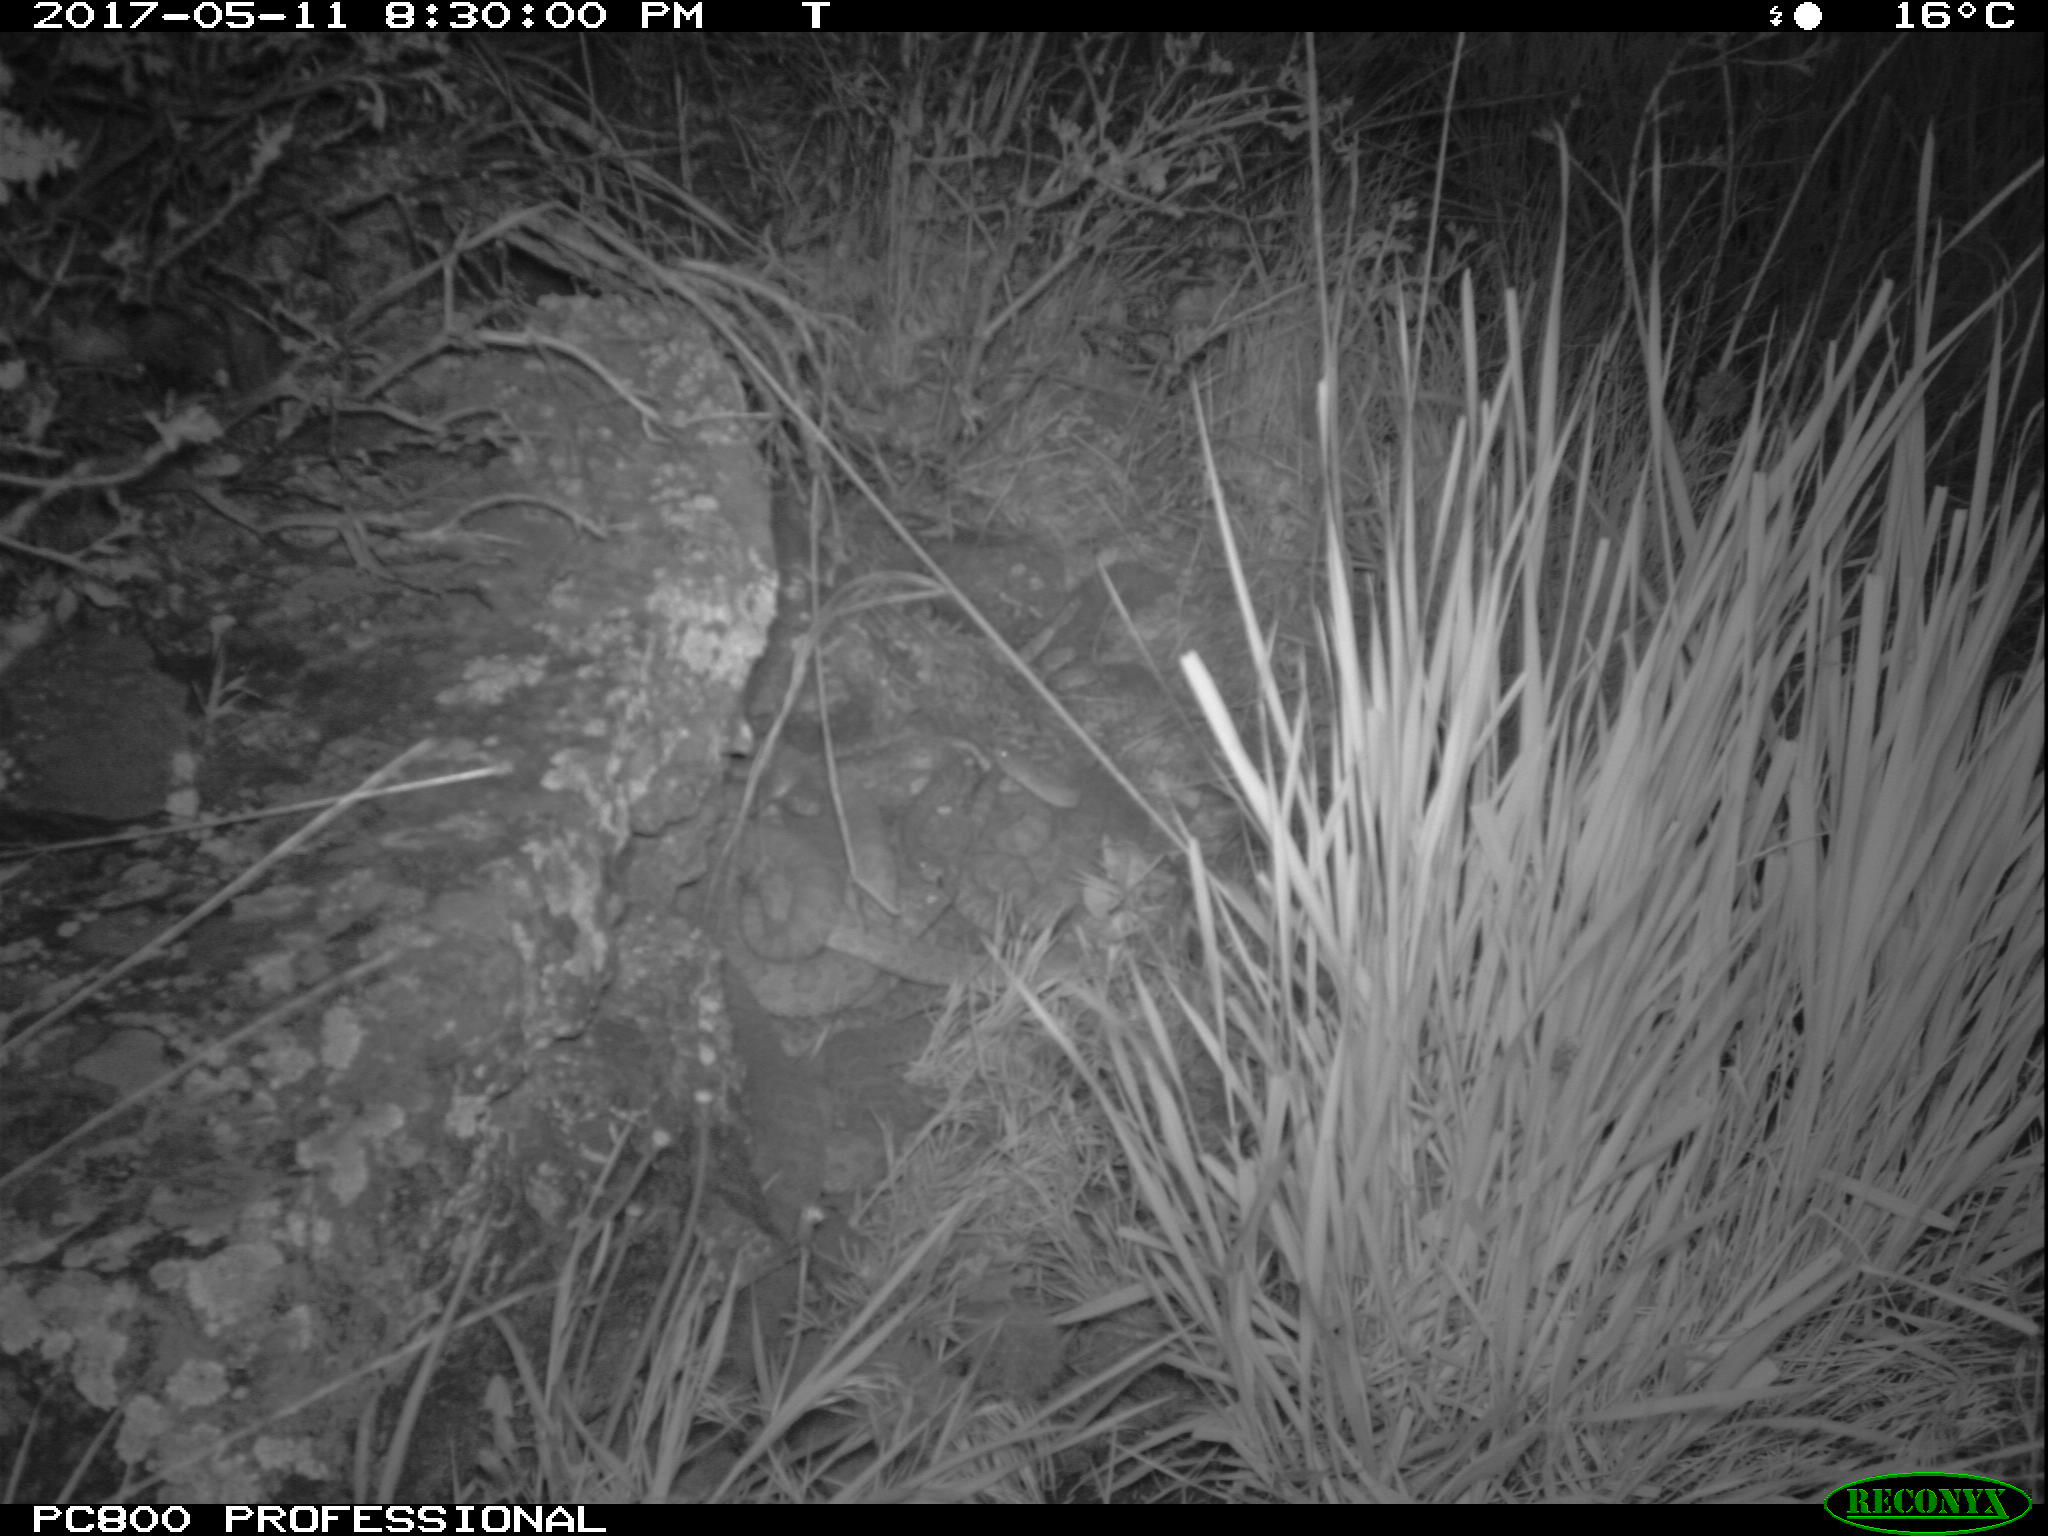snake: (813, 739, 989, 931), (711, 836, 889, 1012)
